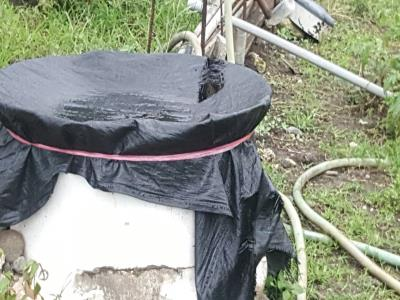plastic_bag: (2, 49, 269, 130)
